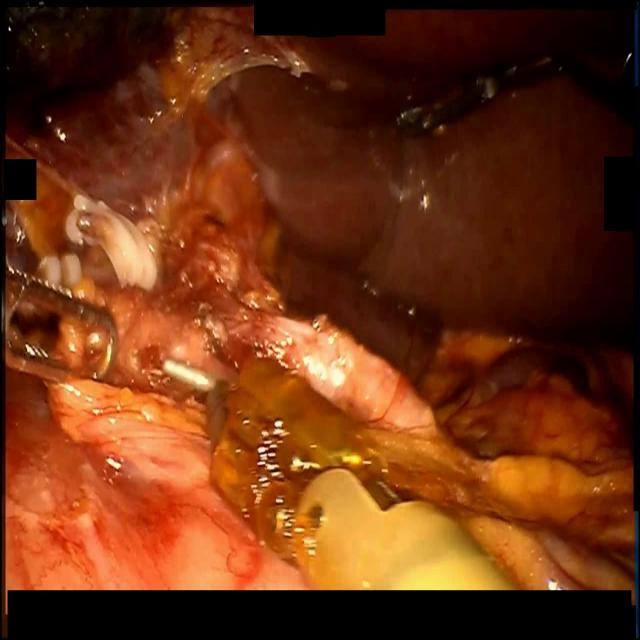surgical-area: (4, 5, 636, 589)
surgical-tool: (2, 265, 223, 422)
